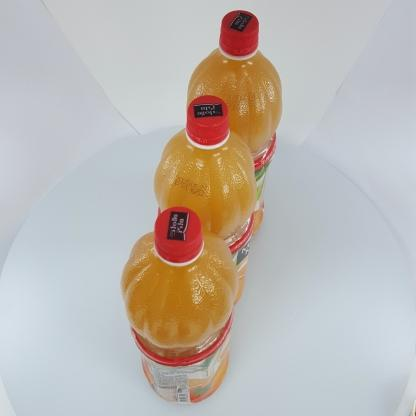------------1-5L: (121, 205, 239, 403), (154, 95, 258, 305), (186, 10, 282, 237)
